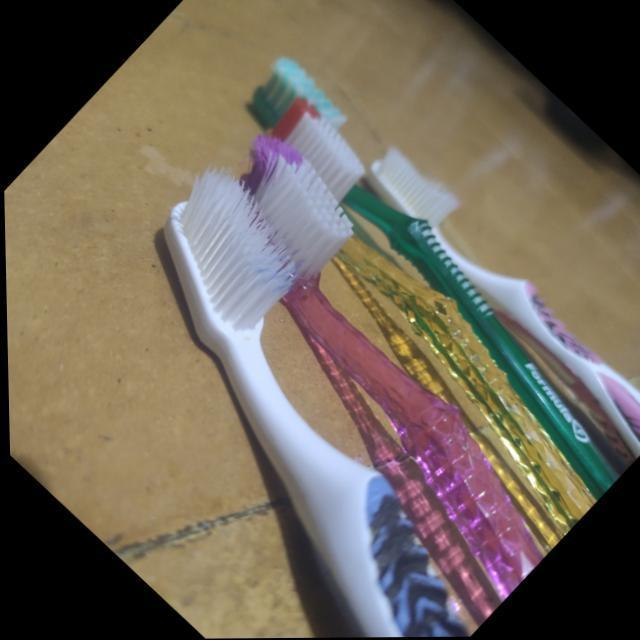toothbrush: (248, 62, 622, 516), (225, 130, 534, 629), (149, 166, 466, 638), (258, 100, 590, 548), (361, 140, 640, 462)
